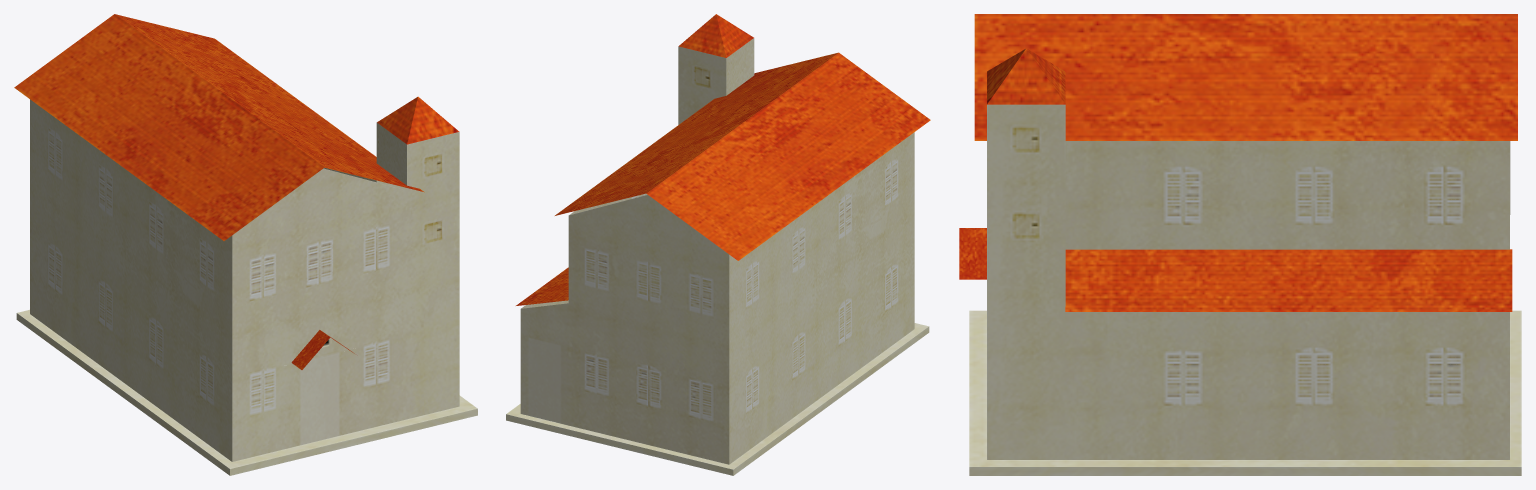
The model's file is House_Kaya_LOD_1.fbx.
3 views of the same model, side by side, from view 1: azimuth 30°, elevation 25°; view 2: azimuth 150°, elevation 25°; view 3: azimuth 270°, elevation 25° (orthographic). The views are drawn at different scales.
Visible parts, largest first — view 1: Cube; view 2: Cube; view 3: Cube.
Part boxes in pixels (x1,y1,x2,y2): Cube: (14, 14, 477, 475); Cube: (506, 14, 930, 475); Cube: (959, 14, 1521, 475).
Bounding box in the file's own units: 575 × 682 × 860.
